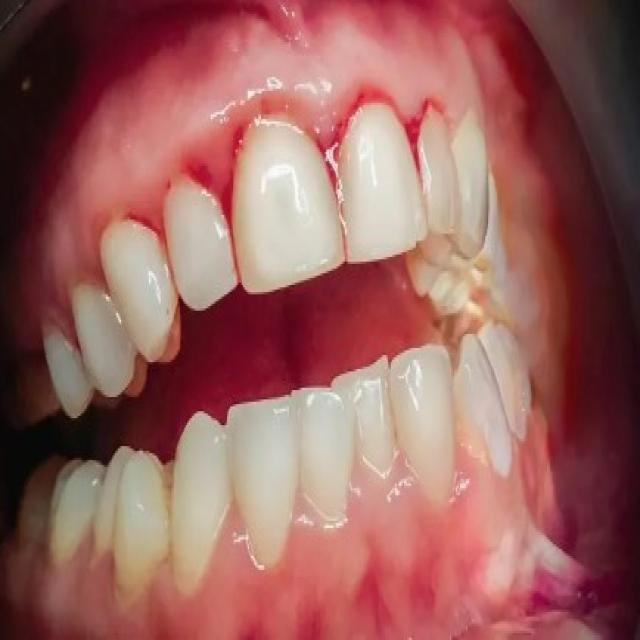Gingivitis: (182, 128, 238, 218), (354, 529, 398, 630), (319, 88, 345, 178), (405, 90, 434, 167)
